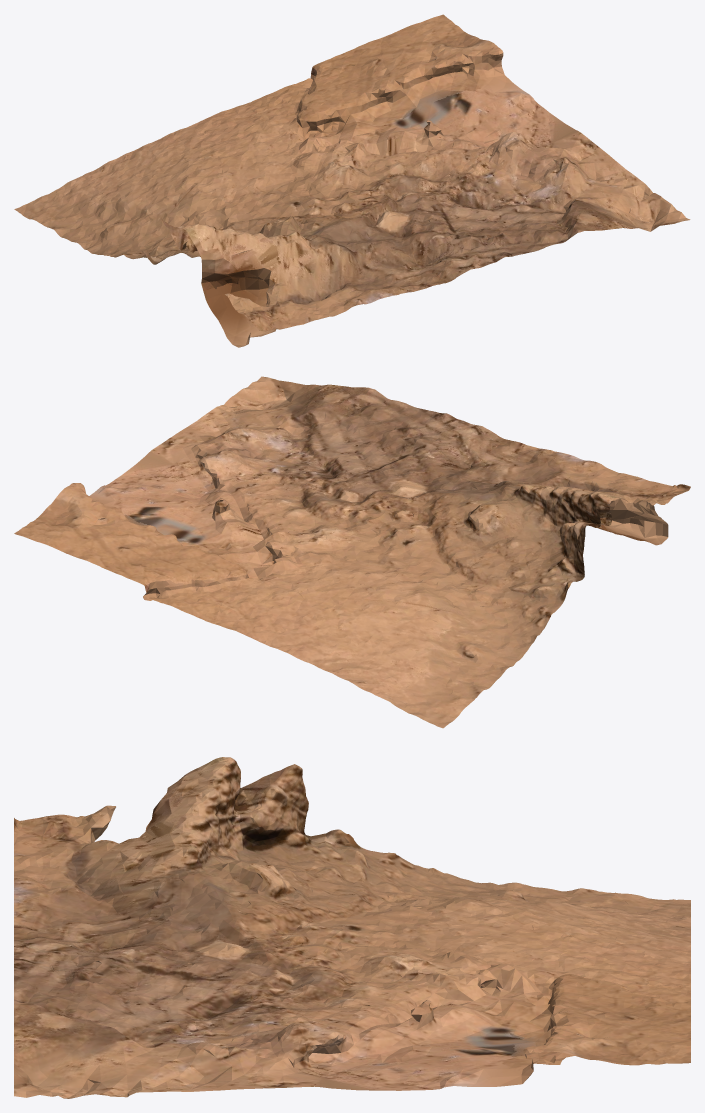
3 renders of one model, top to bottom at view 1: azimuth 30°, elevation 25°; view 2: azimuth 150°, elevation 25°; view 3: azimuth 270°, elevation 25°, orthographic. The views are drawn at different scales.
Bounding box in the file's own units: 1.04 × 0.2474 × 1.04.
3 materials, 3 textured.
